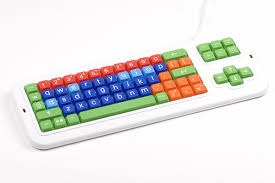keyboard: (10, 33, 270, 154)
